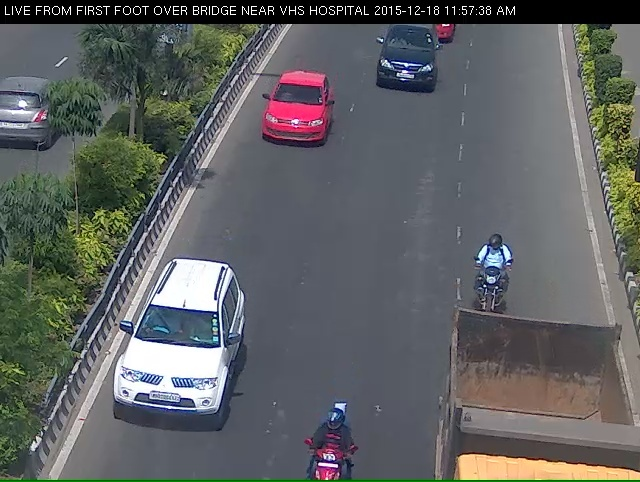Car: (104, 273, 227, 445), (262, 69, 327, 154), (372, 25, 438, 99)
Person: (469, 247, 511, 328)
